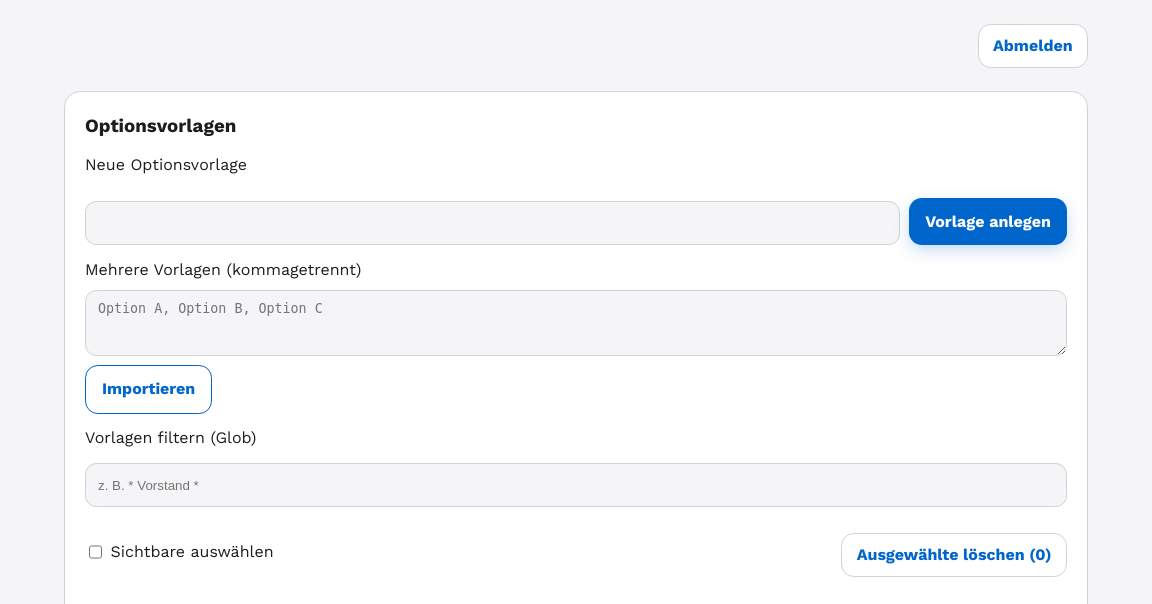
Scenario: AdminPage session gate › reports partial results when deleting multiple templates
expect the heading "Optionsvorlagen" is shown: met, box [85, 115, 236, 137]
Click the checkbox labelled "Sichtbare auswählen" at (96, 552), box [89, 530, 102, 574]
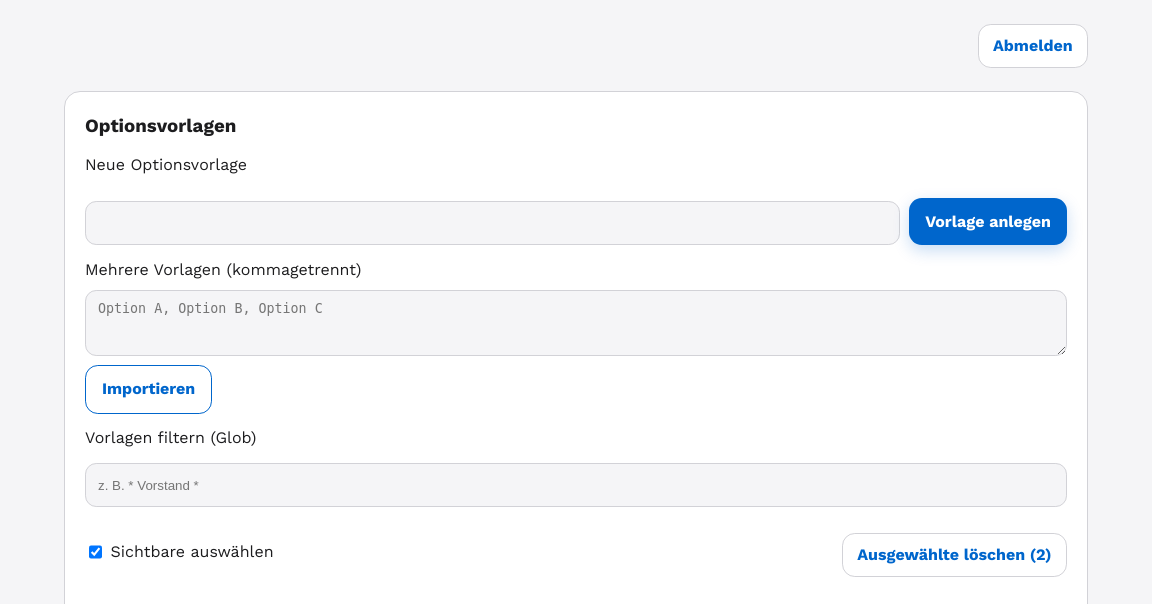
Click the button "Ausgewählte löschen (2)" at (954, 555), box [842, 533, 1067, 577]
(page scrolled)
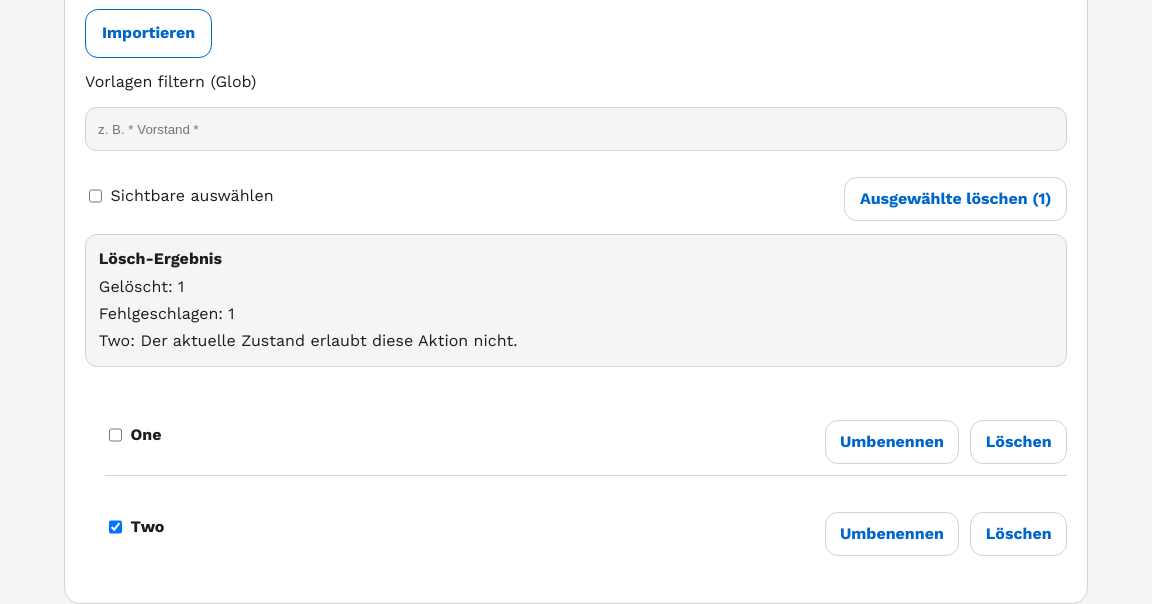
expect the text "Lösch-Ergebnis" is shown: met, box [99, 249, 222, 268]
expect the message shows "Gelöscht: 1": met, box [85, 234, 1067, 367]
expect the message shows "Fehlgeschlagen: 1": met, box [85, 234, 1067, 367]
